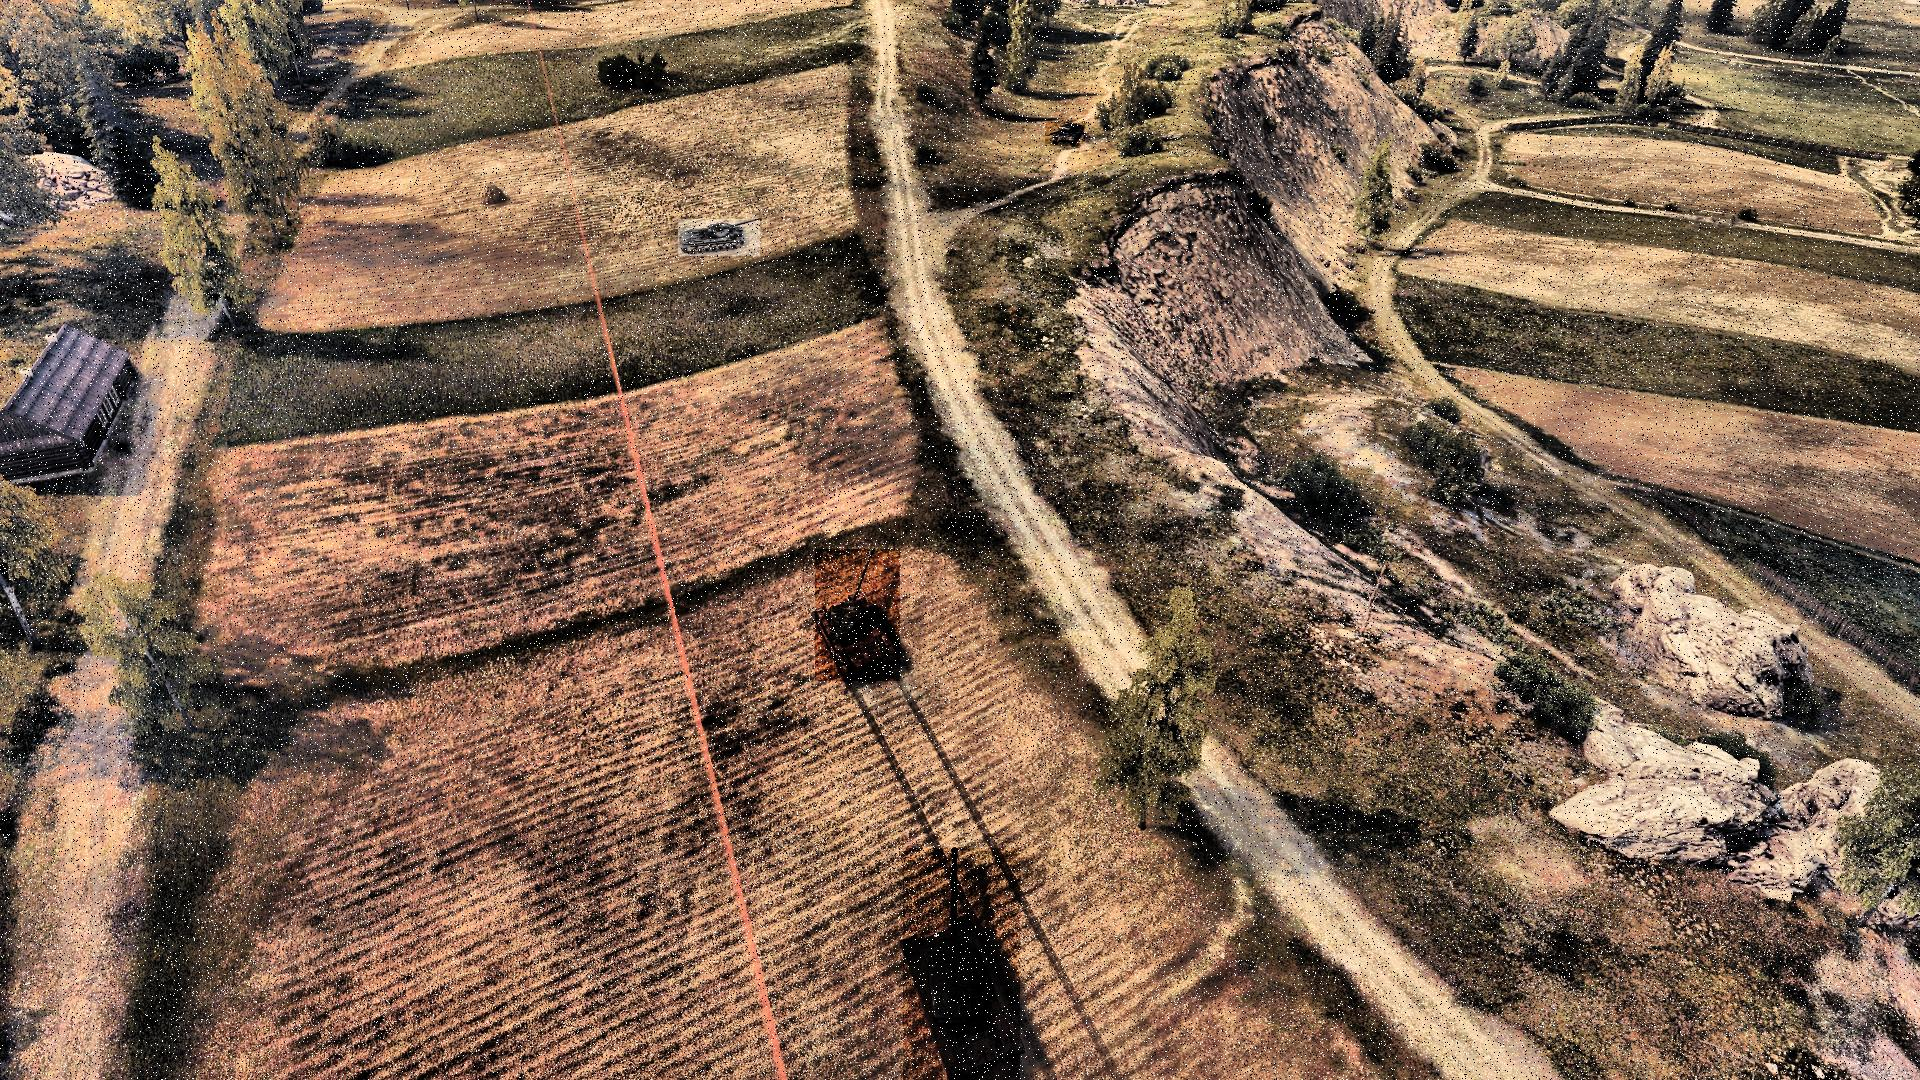military-vehicle: (903, 848, 1021, 1080), (815, 550, 899, 682), (678, 220, 760, 257), (1044, 121, 1085, 146)
